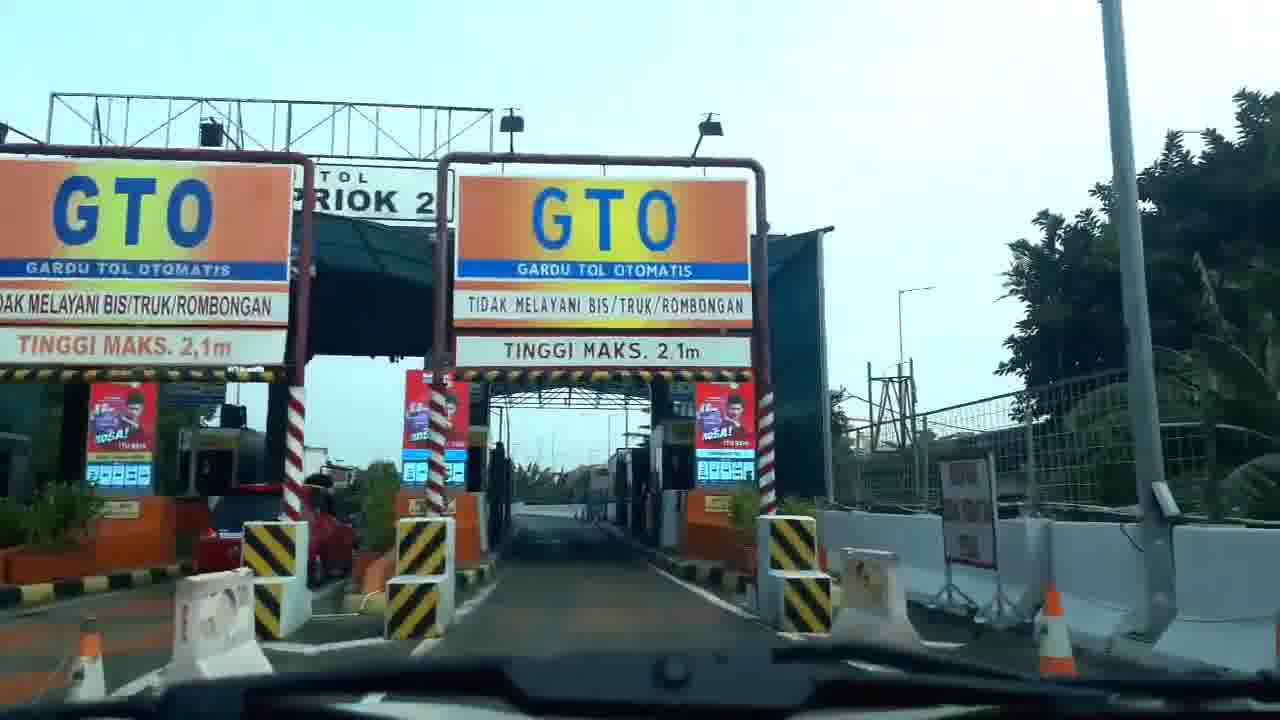plate_positive: (230, 542, 241, 561)
